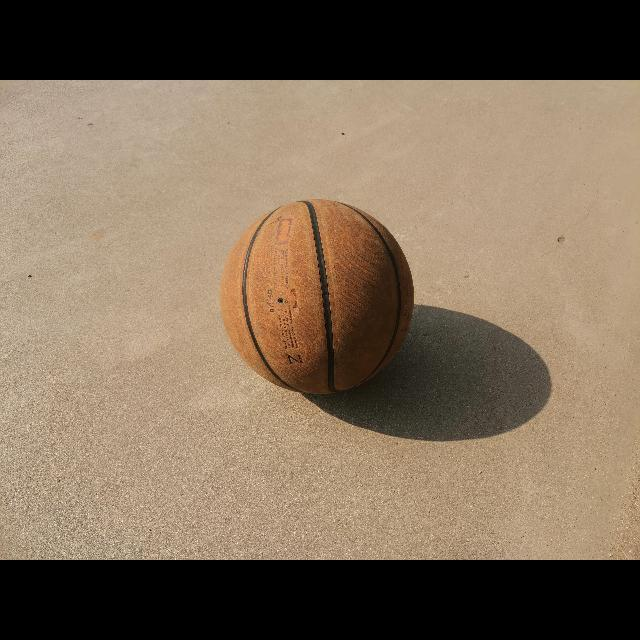basketball: (222, 199, 414, 393)
